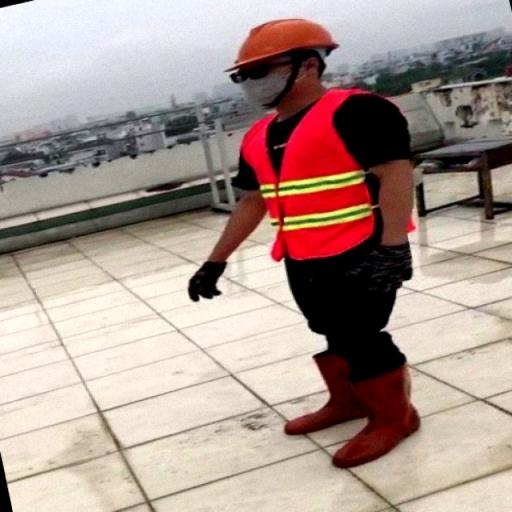Person: (188, 11, 440, 478)
boots: (333, 354, 428, 471), (278, 346, 364, 438)
gloves: (350, 239, 418, 293), (183, 256, 235, 302)
goggles: (226, 54, 307, 84)
helmet: (224, 10, 342, 70)
vest: (233, 84, 411, 254)
